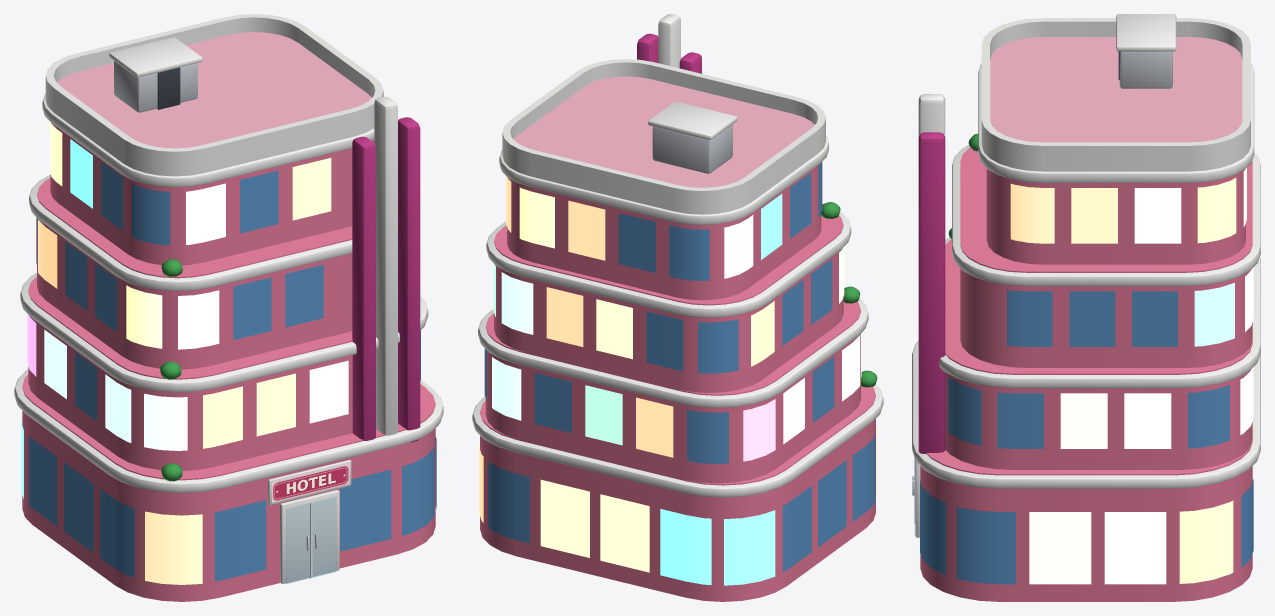
Rendered from deco_degraus_rosa.glb.
3 renders of one model, left to right at view 1: azimuth 30°, elevation 25°; view 2: azimuth 150°, elevation 25°; view 3: azimuth 270°, elevation 25°, orthographic. The views are drawn at different scales.
Visible parts, largest first — view 1: deco_degraus_rosa; view 2: deco_degraus_rosa; view 3: deco_degraus_rosa.
Boxes of the visible parts, x1,y1,x2,y2 form: deco_degraus_rosa: [14, 14, 443, 601]; deco_degraus_rosa: [472, 14, 883, 601]; deco_degraus_rosa: [912, 14, 1260, 601].
Size of the model in its own units: 11.7 by 15.63 by 10.5.
10 materials, 2 textured.
